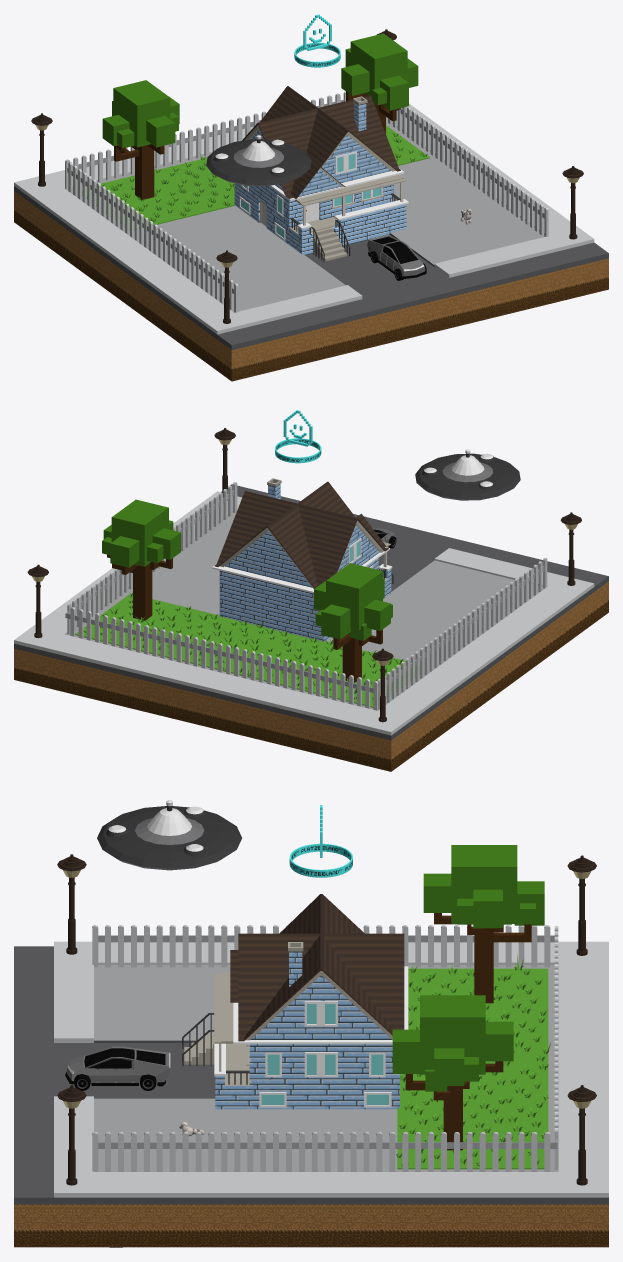
The picture shows the model from 3 angles, top to bottom: view 1: azimuth 30°, elevation 25°; view 2: azimuth 150°, elevation 25°; view 3: azimuth 270°, elevation 25°; orthographic projection. The views are drawn at different scales.
Parts seen in each view (by area): view 1: Cube.004, Cube.547, OBJRANDOM_UFO, VEHICLES_CYBERTRUCK, TYPE_PREMIUM; view 2: Cube.004, Cube.547, OBJRANDOM_UFO, TYPE_PREMIUM; view 3: Cube.004, Cube.547, OBJRANDOM_UFO, VEHICLES_CYBERTRUCK, TYPE_PREMIUM.
Boxes of the visible parts, bbox=[...] form: Cube.004: bbox=[14, 29, 608, 381]; Cube.547: bbox=[234, 86, 408, 262]; OBJRANDOM_UFO: bbox=[206, 135, 311, 186]; VEHICLES_CYBERTRUCK: bbox=[367, 234, 426, 280]; TYPE_PREMIUM: bbox=[294, 14, 340, 67]; Cube.004: bbox=[14, 428, 608, 771]; Cube.547: bbox=[212, 478, 393, 641]; OBJRANDOM_UFO: bbox=[415, 449, 520, 500]; TYPE_PREMIUM: bbox=[275, 410, 321, 463]; Cube.004: bbox=[14, 845, 608, 1247]; Cube.547: bbox=[182, 894, 408, 1109]; OBJRANDOM_UFO: bbox=[97, 800, 241, 870]; VEHICLES_CYBERTRUCK: bbox=[65, 1046, 170, 1090]; TYPE_PREMIUM: bbox=[289, 805, 352, 877].
Size of the model in its own units: 4000 by 2440 by 4000.
30 materials, 5 textured.
